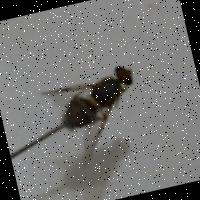Oriental-fruit-fly: (34, 44, 174, 179)
